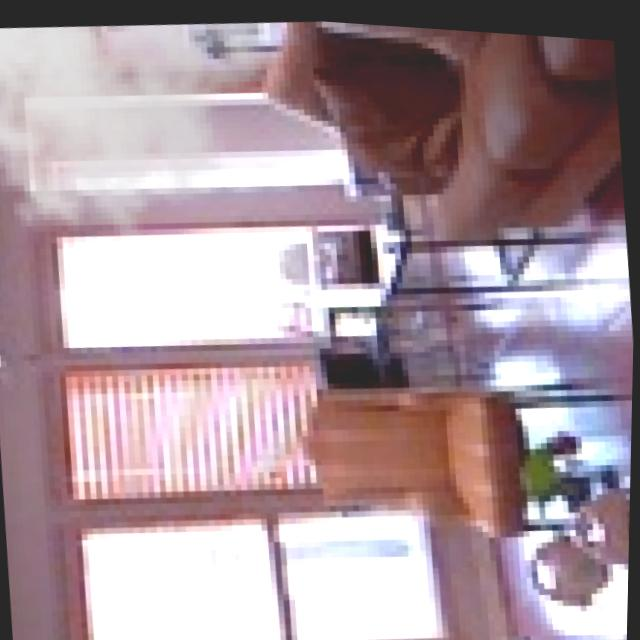smoke: (0, 2, 299, 260)
